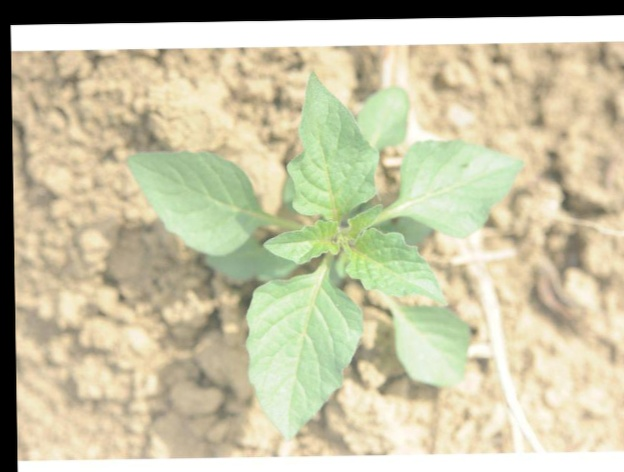nightshade: (128, 69, 525, 437)
